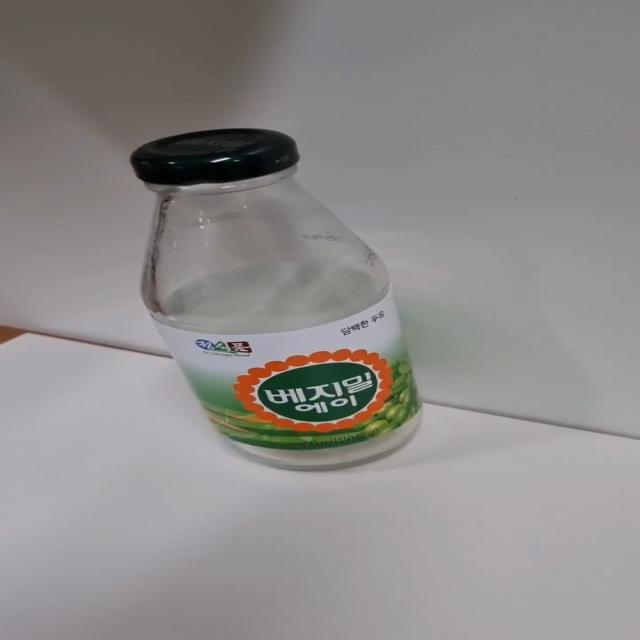Glass: (128, 128, 422, 473)
